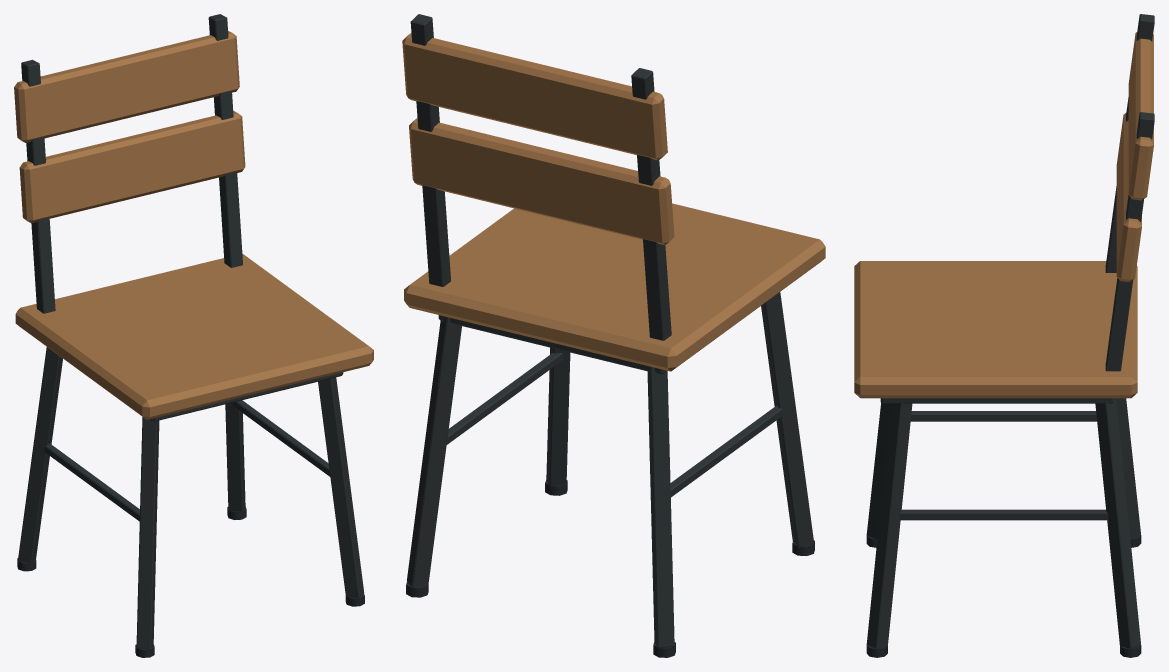
File: dining_chair.glb
3 renders of one model, left to right at view 1: azimuth 30°, elevation 25°; view 2: azimuth 150°, elevation 25°; view 3: azimuth 270°, elevation 25°, orthographic. The views are drawn at different scales.
Visible parts, largest first — view 1: Oak seat, Oak back slat, Oak back slat.001, Front leg.001, Front leg, Rear leg, Back upright, Back upright.001, Rear leg.001, Side lower brace, Side lower brace.001, Seat support; view 2: Oak seat, Oak back slat.001, Oak back slat, Rear leg.001, Rear leg, Front leg, Back upright, Back upright.001, Front leg.001, Side lower brace.001, Side lower brace, Seat support; view 3: Oak seat, Rear leg.001, Front leg.001, Oak back slat.001, Oak back slat, Side lower brace.001, Back upright.001, Side lower brace, Rear leg, Front leg, Seat support, Back upright.
Boxes of the visible parts, bbox=[...] form: Oak seat: bbox=[15, 253, 373, 419]; Oak back slat: bbox=[19, 111, 245, 223]; Oak back slat.001: bbox=[14, 31, 239, 142]; Front leg.001: bbox=[318, 377, 364, 598]; Front leg: bbox=[136, 417, 159, 649]; Rear leg: bbox=[18, 347, 62, 564]; Back upright: bbox=[21, 59, 55, 313]; Back upright.001: bbox=[208, 14, 242, 267]; Rear leg.001: bbox=[225, 403, 245, 512]; Side lower brace: bbox=[44, 443, 139, 521]; Side lower brace.001: bbox=[231, 400, 330, 476]; Seat support: bbox=[150, 372, 343, 421]; Oak seat: bbox=[404, 203, 825, 371]; Oak back slat.001: bbox=[402, 33, 667, 160]; Oak back slat: bbox=[409, 118, 674, 245]; Rear leg.001: bbox=[407, 317, 461, 587]; Rear leg: bbox=[647, 366, 674, 647]; Front leg: bbox=[761, 292, 814, 547]; Back upright: bbox=[631, 68, 671, 340]; Back upright.001: bbox=[410, 14, 450, 286]; Front leg.001: bbox=[546, 347, 570, 487]; Side lower brace.001: bbox=[446, 353, 563, 444]; Side lower brace: bbox=[670, 405, 782, 497]; Seat support: bbox=[438, 315, 666, 374]; Oak seat: bbox=[854, 261, 1137, 398]; Rear leg.001: bbox=[1095, 398, 1140, 649]; Front leg.001: bbox=[866, 399, 912, 649]; Oak back slat.001: bbox=[1128, 32, 1153, 200]; Oak back slat: bbox=[1116, 113, 1141, 281]; Side lower brace.001: bbox=[899, 509, 1108, 520]; Back upright.001: bbox=[1105, 112, 1154, 371]; Side lower brace: bbox=[910, 411, 1096, 421]; Rear leg: bbox=[1116, 398, 1140, 539]; Front leg: bbox=[866, 403, 890, 539]; Seat support: bbox=[880, 398, 1113, 403]; Back upright: bbox=[1105, 14, 1154, 272].
Size of the model in its own units: 0.43 by 0.8812 by 0.4507.
